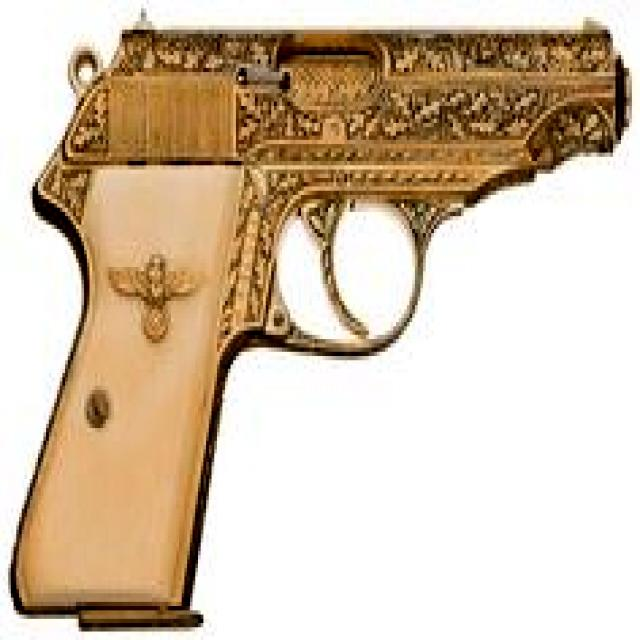semi automatic: (13, 7, 634, 640)
